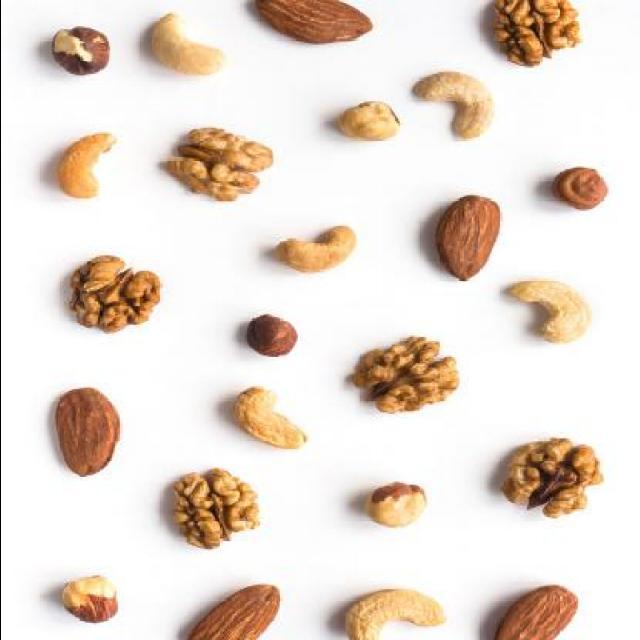Frutta secca: (352, 336, 461, 418), (158, 127, 274, 201), (500, 438, 602, 520), (170, 466, 264, 550), (67, 254, 161, 334), (428, 192, 502, 280), (53, 386, 121, 479), (488, 1, 582, 67), (510, 276, 592, 348), (414, 70, 496, 142), (176, 584, 278, 640), (343, 589, 446, 640), (255, 0, 373, 44), (144, 14, 225, 78), (487, 584, 579, 640), (236, 384, 310, 452), (272, 224, 358, 281), (56, 133, 120, 199), (357, 479, 431, 532), (329, 95, 405, 143), (51, 28, 112, 77), (242, 311, 298, 363), (60, 576, 117, 624), (553, 163, 607, 211)
